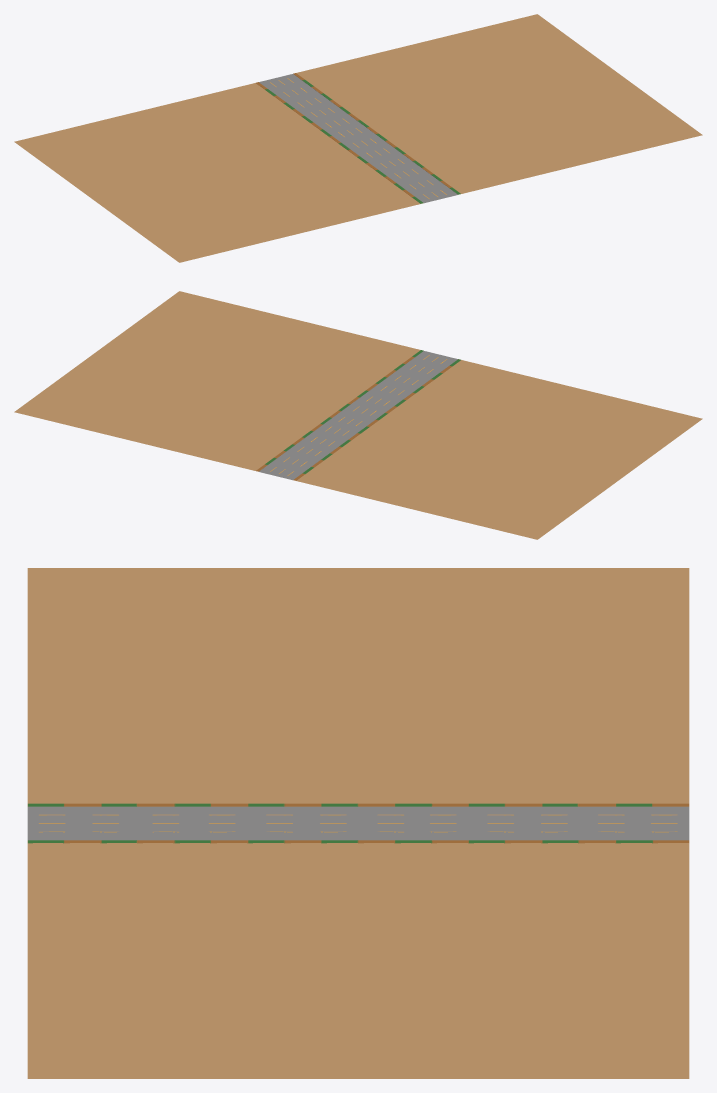
Rendered from pista_desierto.fbx.
The picture shows the model from 3 angles, top to bottom: view 1: azimuth 30°, elevation 25°; view 2: azimuth 150°, elevation 25°; view 3: azimuth 270°, elevation 25°; orthographic projection. The views are drawn at different scales.
Parts seen in each view (by area): view 1: pista_desierto:Mesh; view 2: pista_desierto:Mesh; view 3: pista_desierto:Mesh.
Boxes of the visible parts, x1,y1,x2,y2 form: pista_desierto:Mesh: (14,14,702,262); pista_desierto:Mesh: (14,291,702,539); pista_desierto:Mesh: (27,568,689,1078).
Size of the model in its own units: 2703 by 0.7204 by 1479.
1 material, 1 textured.
